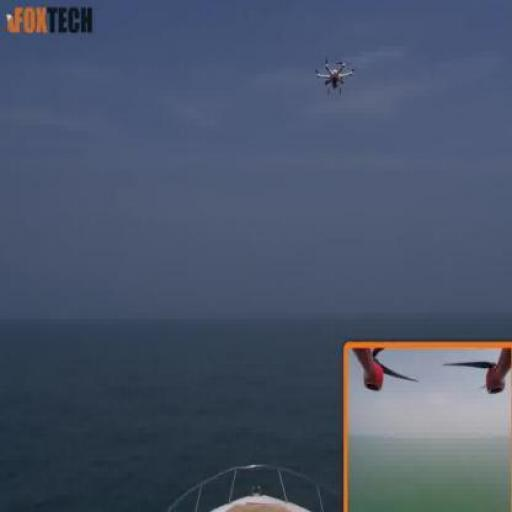drone: (313, 58, 355, 89)
